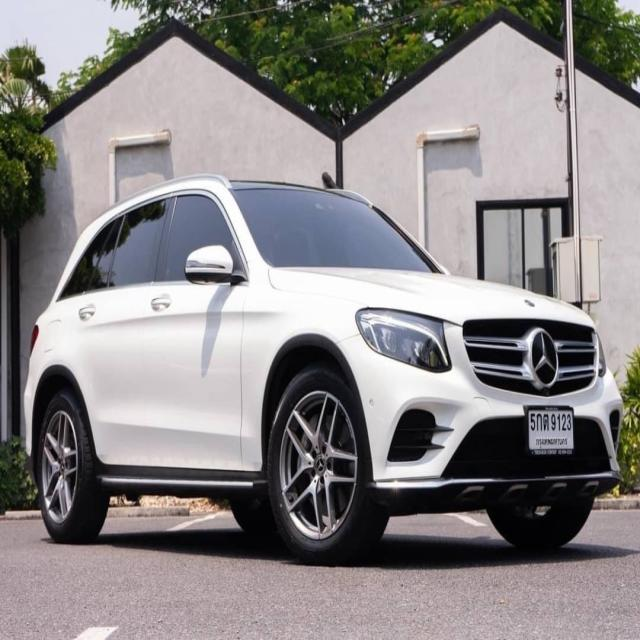license_plate: (525, 404, 577, 460)
